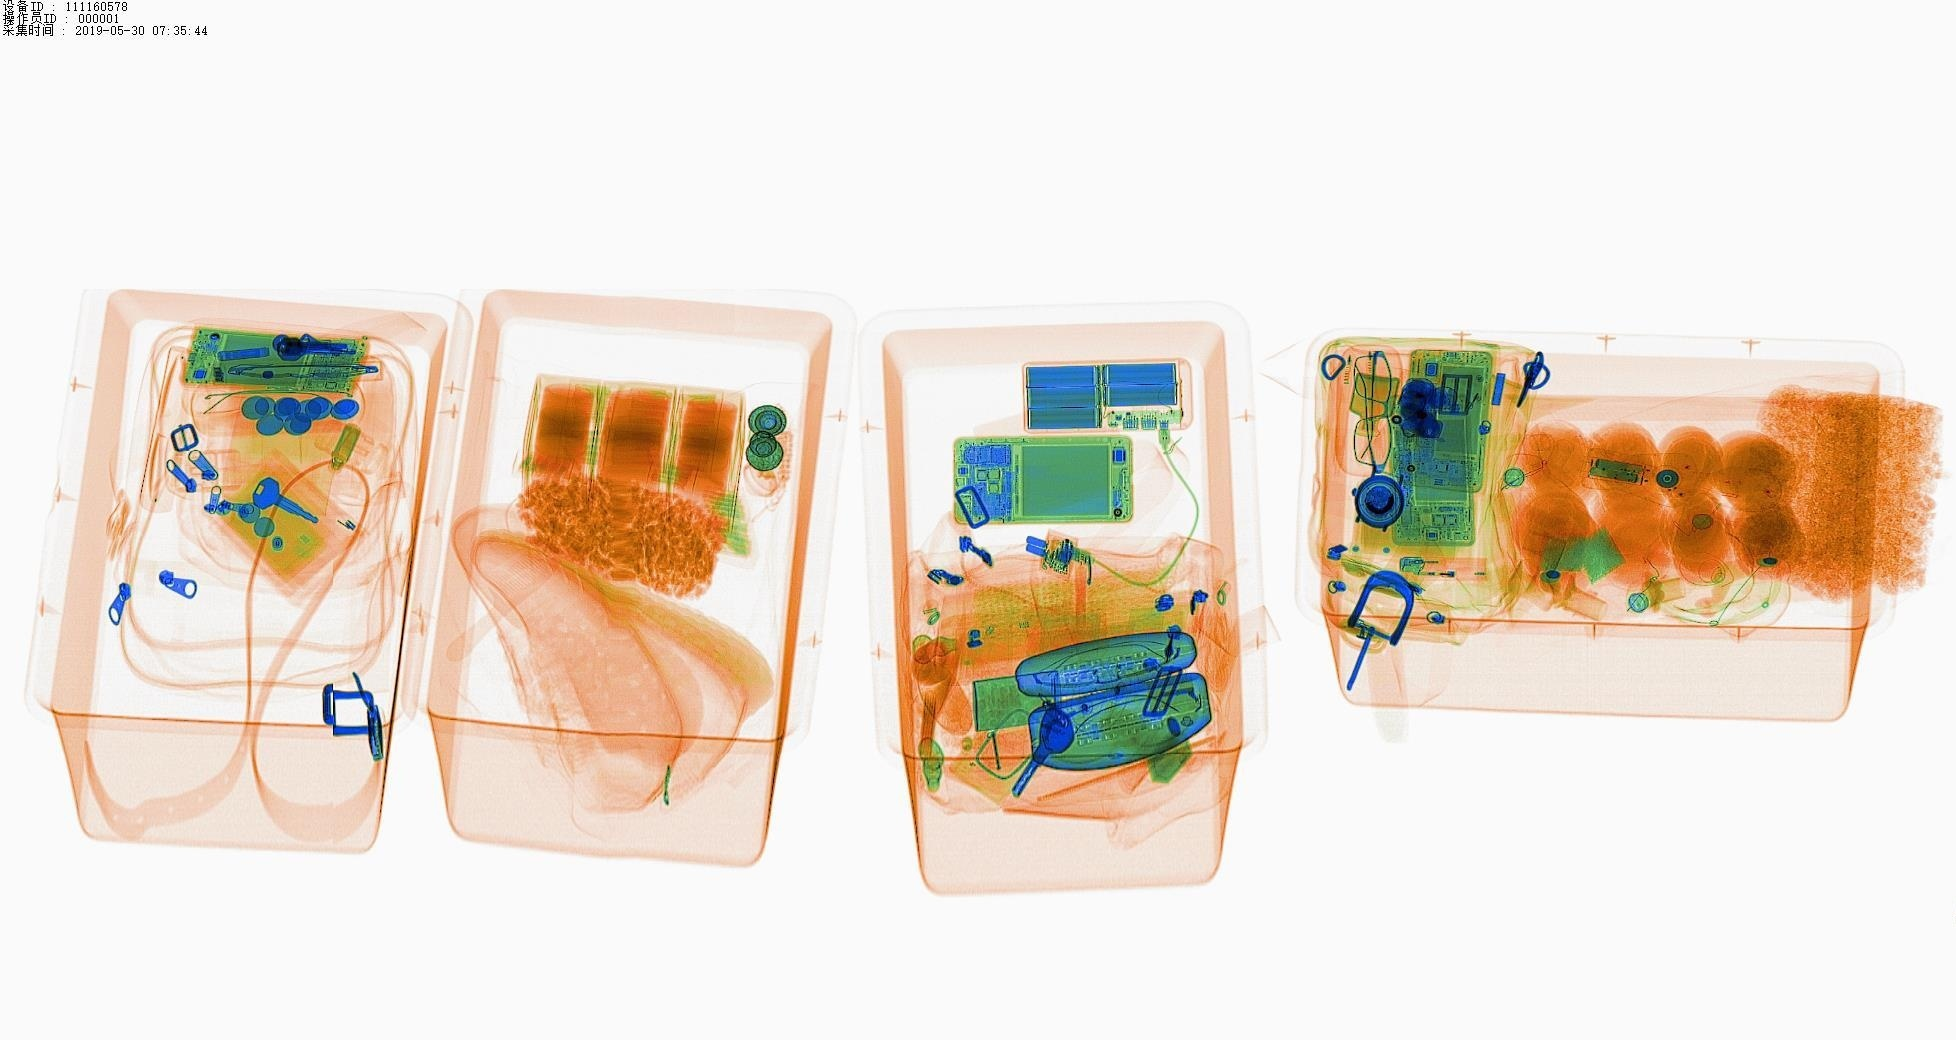NonmetallicFire: (1391, 550, 1505, 586)
